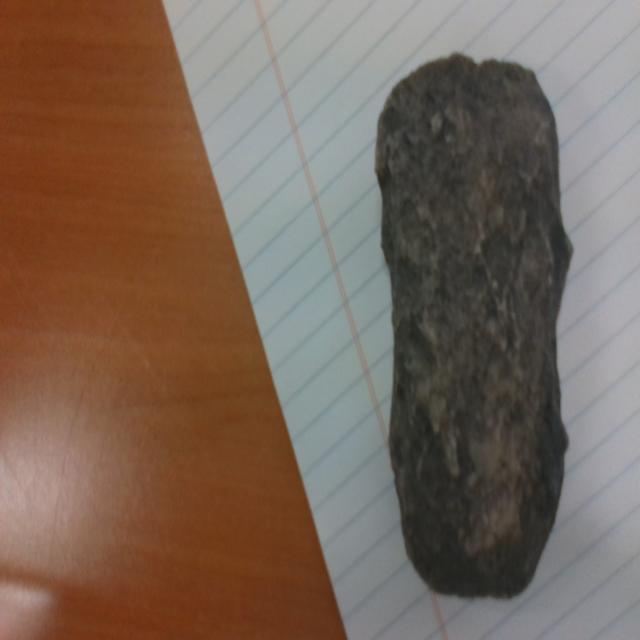stone: (376, 53, 574, 597)
